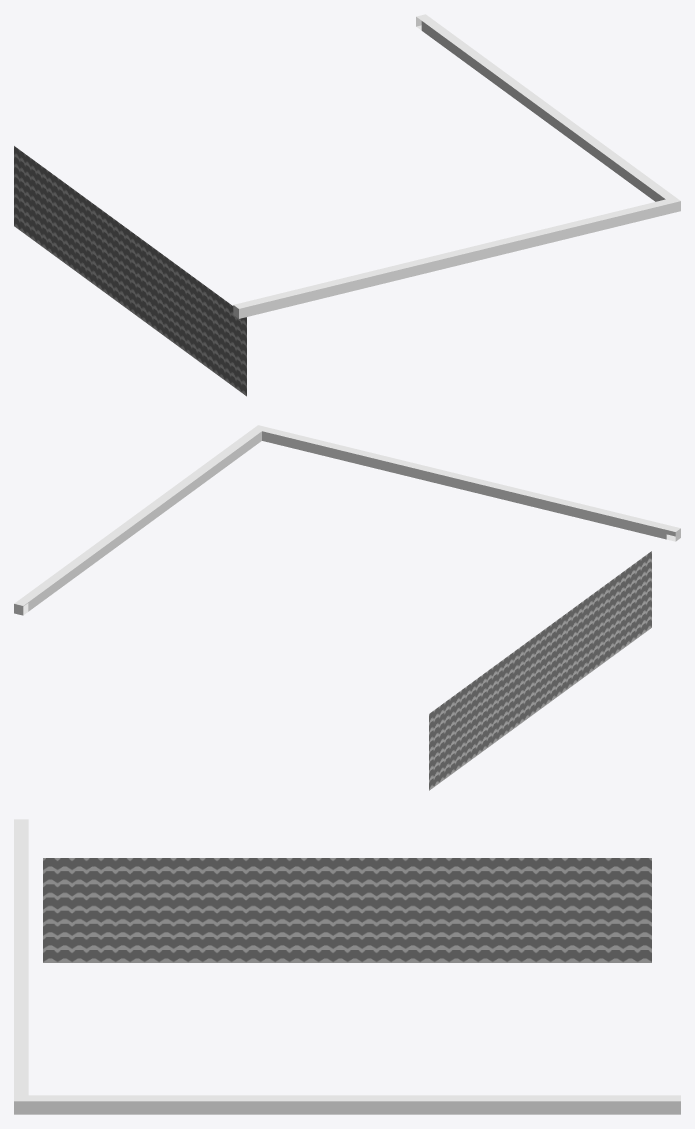
The picture shows the model from 3 angles, top to bottom: view 1: azimuth 30°, elevation 25°; view 2: azimuth 150°, elevation 25°; view 3: azimuth 270°, elevation 25°; orthographic projection. The views are drawn at different scales.
Parts seen in each view (by area): view 1: Blanco 2, Amarillo 1; view 2: Blanco 2, Amarillo 1; view 3: Blanco 2, Amarillo 1.
Boxes of the visible parts, box(x1,y1,x2,y2) form: Blanco 2: box(14, 146, 246, 396); Amarillo 1: box(233, 14, 680, 318); Blanco 2: box(429, 551, 651, 790); Amarillo 1: box(14, 425, 680, 615); Blanco 2: box(43, 858, 651, 962); Amarillo 1: box(14, 819, 680, 1114).
Bounding box in the file's own units: 46 × 10 × 46.
2 materials, 1 textured.
